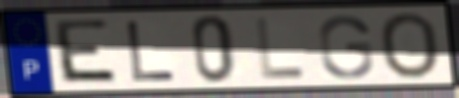0: (189, 14, 240, 86)
E: (54, 17, 122, 86)
G: (315, 13, 376, 81)
L: (253, 16, 309, 82), (123, 19, 179, 84)
O: (377, 10, 443, 81)
